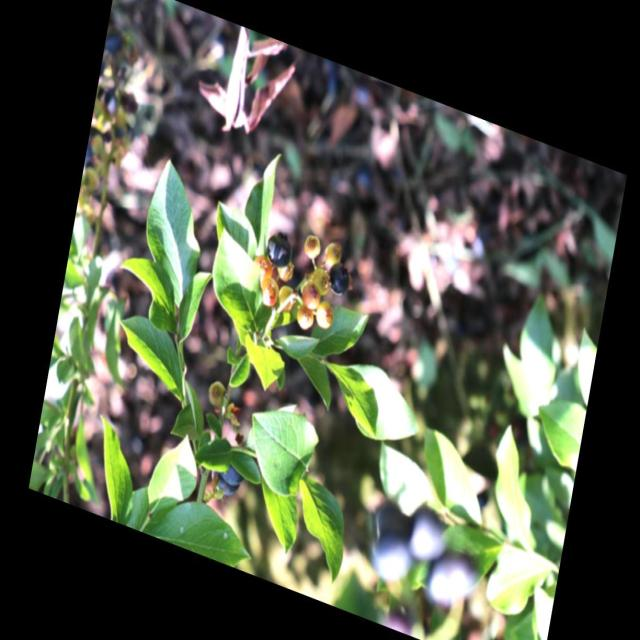blueberry: (364, 520, 418, 591), (262, 225, 294, 274), (323, 256, 354, 302), (207, 467, 240, 498), (220, 458, 246, 489)
blueberry-unripe: (251, 251, 276, 285), (257, 274, 280, 310), (321, 235, 346, 268), (274, 281, 298, 315), (308, 264, 331, 296), (311, 300, 333, 332), (294, 302, 316, 333), (301, 231, 322, 262), (301, 282, 322, 312), (274, 256, 294, 282)
